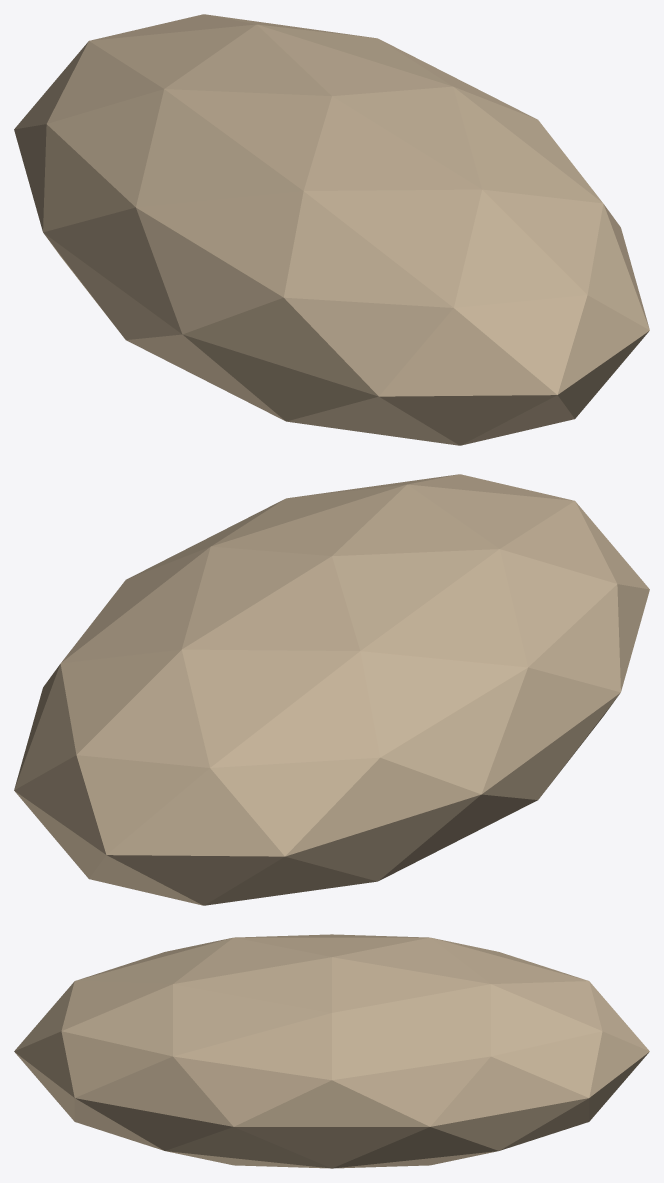
File: carrotSeed.fbx
3 renders of one model, top to bottom at view 1: azimuth 30°, elevation 25°; view 2: azimuth 150°, elevation 25°; view 3: azimuth 270°, elevation 25°, orthographic. The views are drawn at different scales.
Visible parts, largest first — view 1: Icosphere; view 2: Icosphere; view 3: Icosphere.
Boxes of the visible parts, box(x1,y1,x2,y2) form: Icosphere: box(14, 14, 649, 445); Icosphere: box(14, 474, 649, 905); Icosphere: box(14, 934, 649, 1168).
Size of the model in its own units: 31.96 by 18.64 by 56.95.
